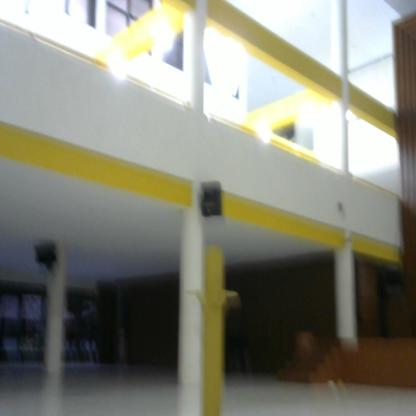pole: (185, 239, 246, 416)
